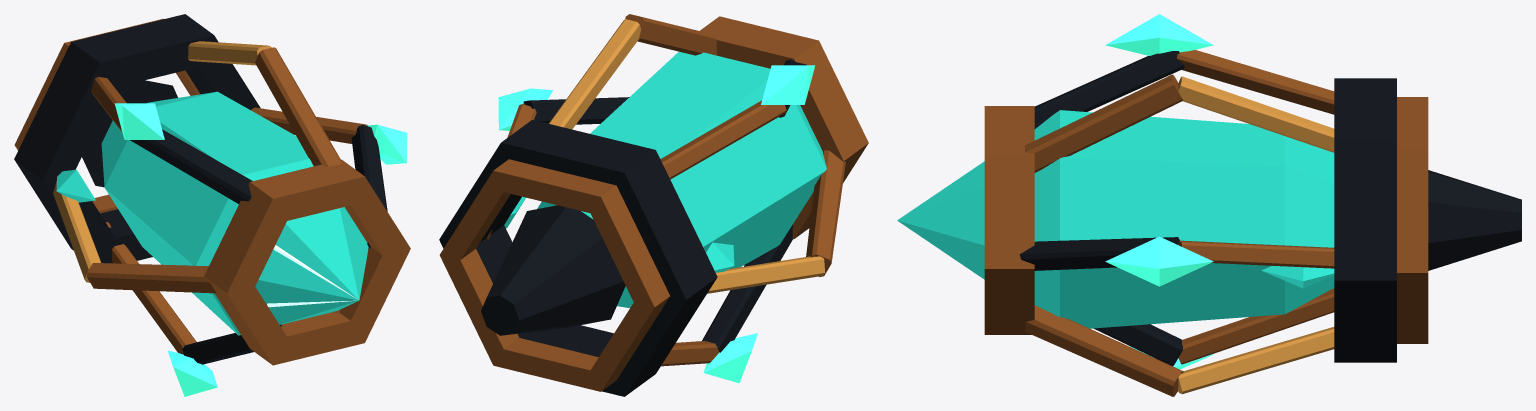
Rendered from projectile-mage-bolt.glb.
3 views of the same model, side by side, from view 1: azimuth 30°, elevation 25°; view 2: azimuth 150°, elevation 25°; view 3: azimuth 270°, elevation 25° (orthographic). The views are drawn at different scales.
Parts seen in each view (by area): view 1: projectile-mage-bolt; view 2: projectile-mage-bolt; view 3: projectile-mage-bolt.
Boxes of the visible parts, x1=… form: projectile-mage-bolt: x1=14, y1=14, x2=410, y2=396; projectile-mage-bolt: x1=439, y1=14, x2=868, y2=396; projectile-mage-bolt: x1=897, y1=14, x2=1521, y2=396.
Bounding box in the file's own units: 0.3324 × 0.326 × 0.53.
1 material, 1 textured.
